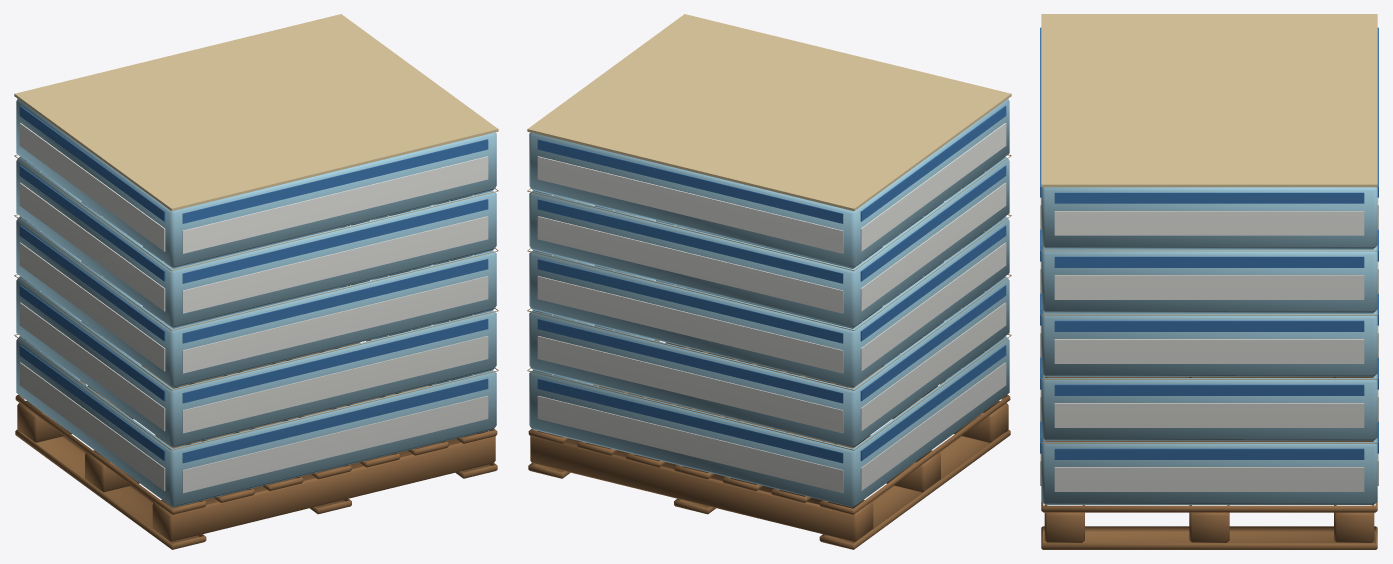
File: PalletLoad_Water_01.glb
The picture shows the model from 3 angles, left to right: view 1: azimuth 30°, elevation 25°; view 2: azimuth 150°, elevation 25°; view 3: azimuth 270°, elevation 25°; orthographic projection. The views are drawn at different scales.
Parts seen in each view (by area): view 1: SM_PalletLoad_Water_01; view 2: SM_PalletLoad_Water_01; view 3: SM_PalletLoad_Water_01.
Part boxes in pixels (box(x1,y1,x2,y2)): SM_PalletLoad_Water_01: box(14, 14, 498, 549); SM_PalletLoad_Water_01: box(527, 14, 1011, 549); SM_PalletLoad_Water_01: box(1040, 14, 1378, 549).
Bounding box in the file's own units: 1.21 × 1.2 × 1.01.
Materials: 1 (1 with a texture image).
